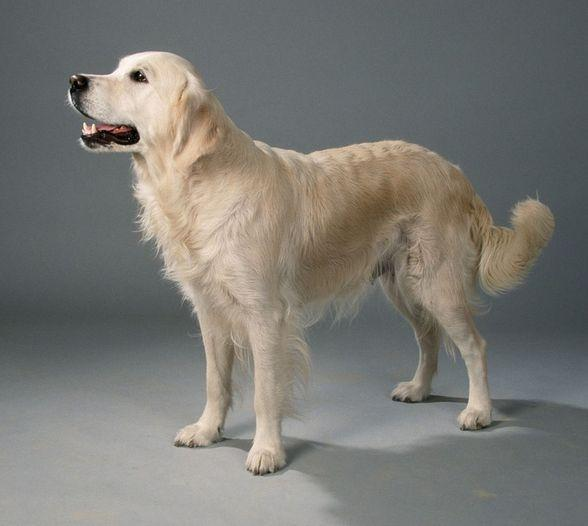dog: (60, 39, 559, 480)
